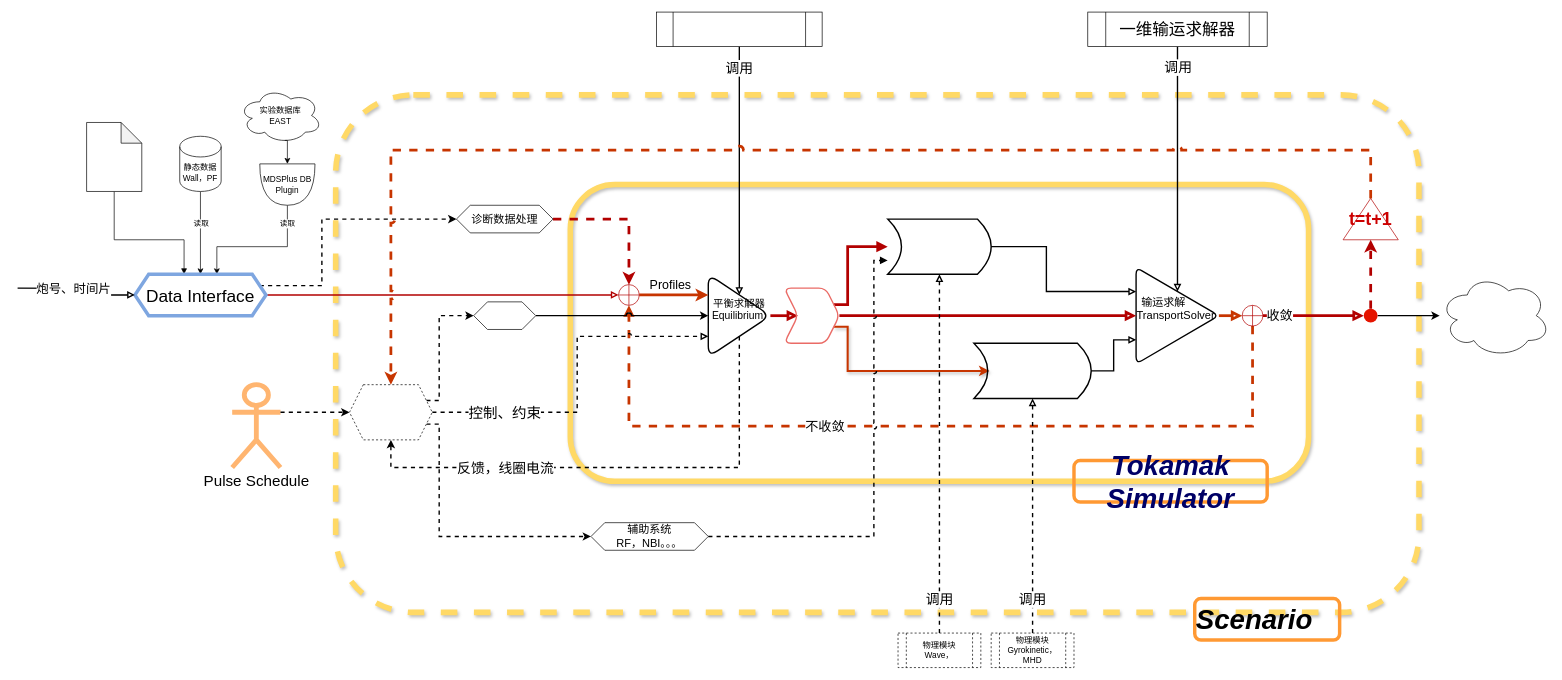
Some shapes in this 1562 by 680 pixel diagram are drawn without their labels. The shapes that lost their labels are listed below. From the top down, each one's centre as x and y in pixels, then its label:
the point at 739,29: 二维平衡求解器
the point at 114,156: Mapping File
the point at 939,246: 源 CoreSources
the point at 504,315: 磁场线圈
the point at 811,315: 磁面 平均 FluxSurface
the point at 1494,315: 模拟数据库
the point at 1032,370: 输运系数 CoreTransport
the point at 390,412: Control
